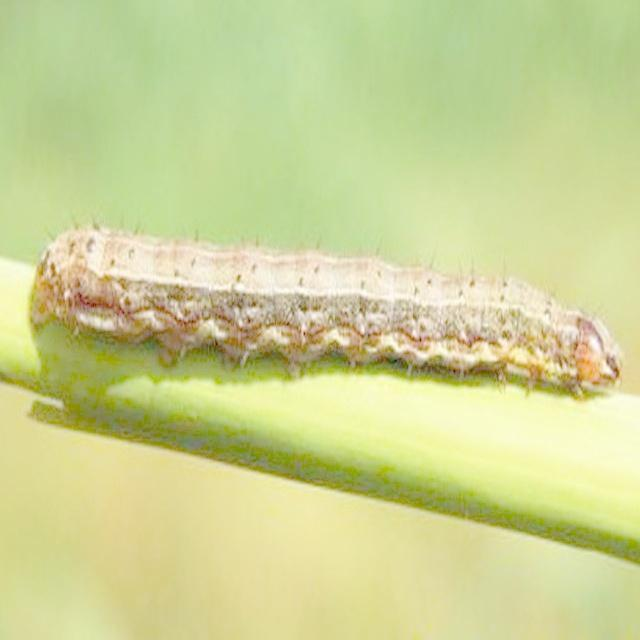gusano_cogollero: (31, 227, 618, 405)
